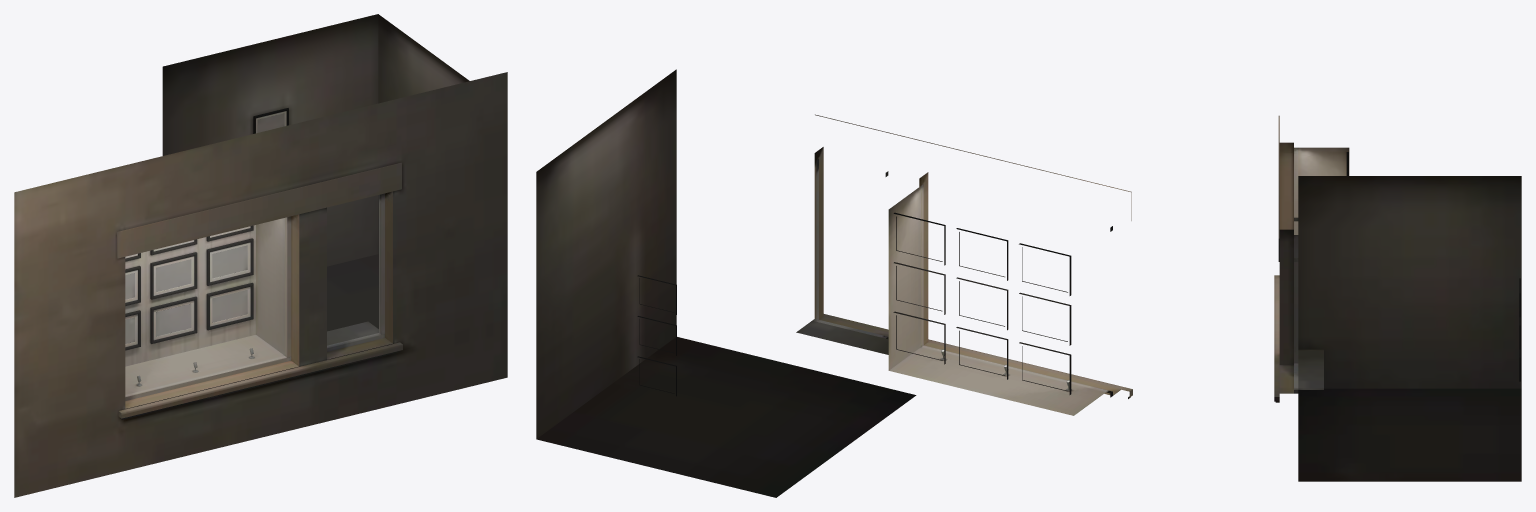
The model's file is street-window-mobile.glb.
The picture shows the model from 3 angles, left to right: view 1: azimuth 30°, elevation 25°; view 2: azimuth 150°, elevation 25°; view 3: azimuth 270°, elevation 25°; orthographic projection. The views are drawn at different scales.
Parts seen in each view (by area): view 1: WindowStatic, Photos; view 2: WindowStatic; view 3: WindowStatic.
Part boxes in pixels (<box>): WindowStatic: <box>14,14,507,497</box>; Photos: <box>125,113,284,343</box>; WindowStatic: <box>536,69,1132,497</box>; WindowStatic: <box>1274,115,1521,481</box>.
Size of the model in its own units: 7.2 by 4.2 by 3.48.
Materials: 3 (2 with a texture image).
